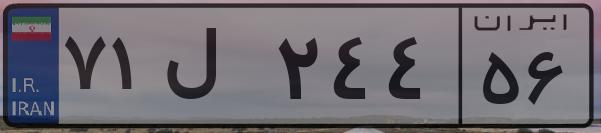1: (110, 28, 158, 98)
2: (270, 28, 330, 110)
4: (385, 28, 445, 110), (330, 28, 385, 110)
5: (475, 38, 525, 113)
6: (525, 38, 570, 115)
7: (57, 26, 110, 100)
ل: (158, 20, 270, 120)
